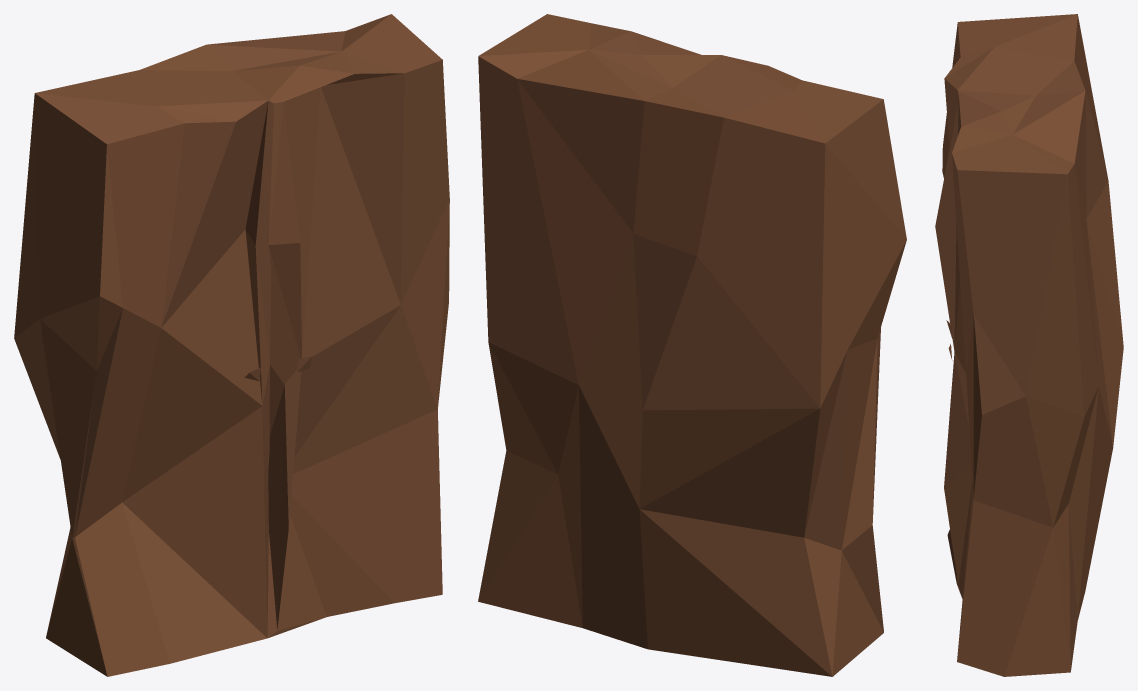
File: Wardrobe.fbx
The picture shows the model from 3 angles, left to right: view 1: azimuth 30°, elevation 25°; view 2: azimuth 150°, elevation 25°; view 3: azimuth 270°, elevation 25°; orthographic projection. The views are drawn at different scales.
Visible parts, largest first — view 1: Wardrobe; view 2: Wardrobe; view 3: Wardrobe.
Part boxes in pixels (x1,y1,x2,y2): Wardrobe: (14,14,449,676); Wardrobe: (478,14,906,676); Wardrobe: (935,14,1123,676).
Size of the model in its own units: 143 by 203 by 68.39.
